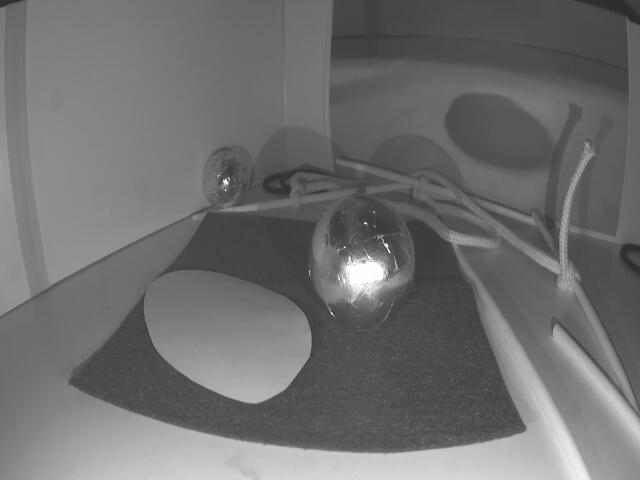Live: (304, 196, 418, 332), (202, 149, 251, 211)
